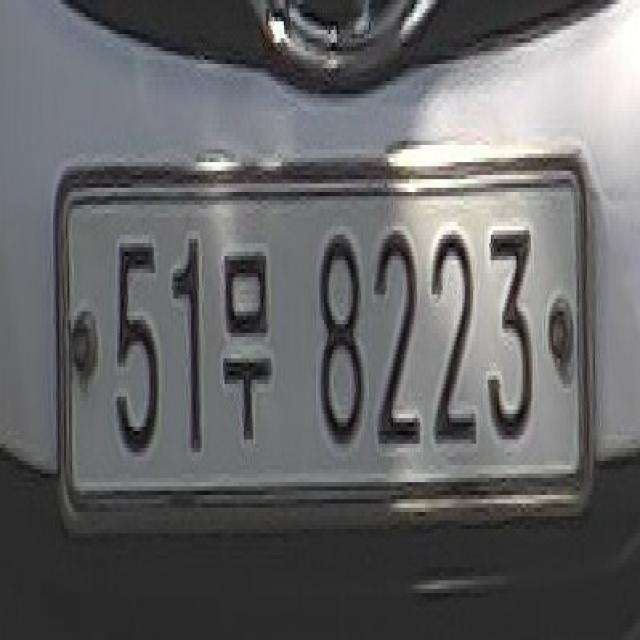plat: (52, 144, 596, 537)
